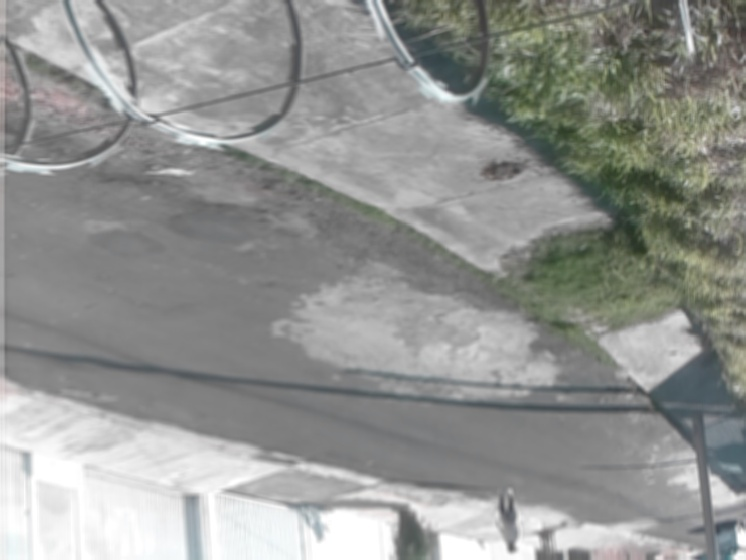person: (494, 487, 520, 554)
